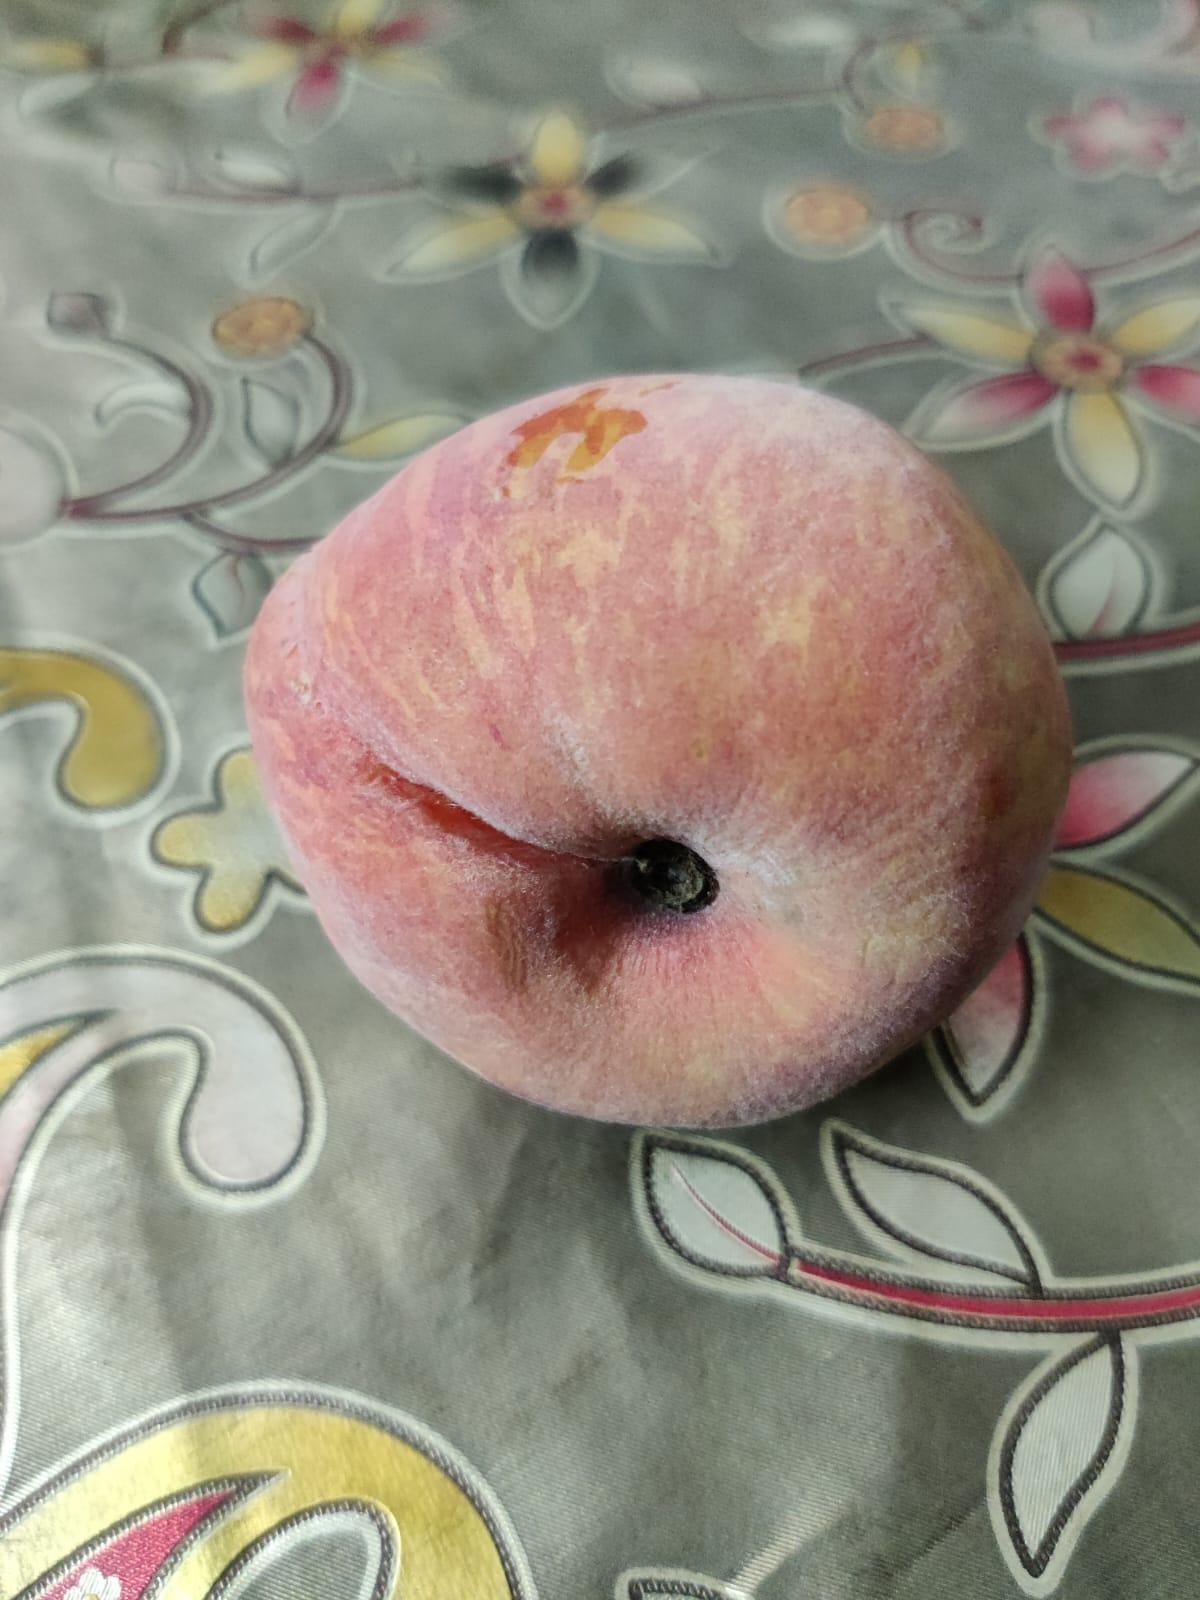non-mango: (234, 357, 1060, 1138)
